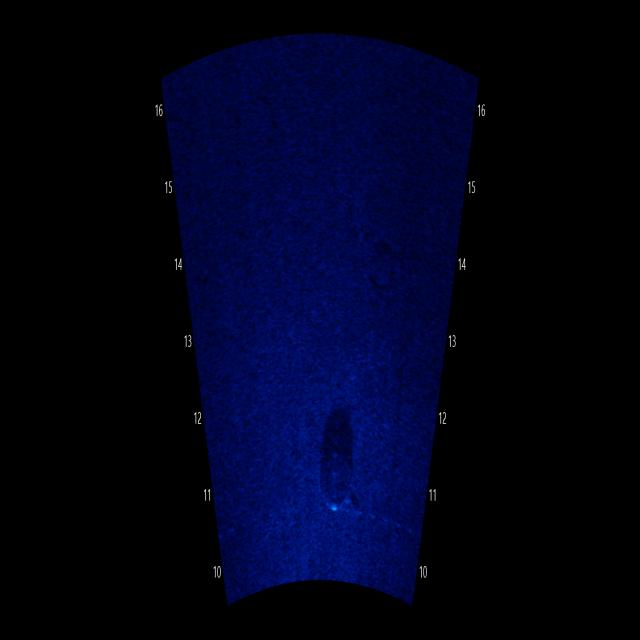circle: (308, 436, 365, 520)
